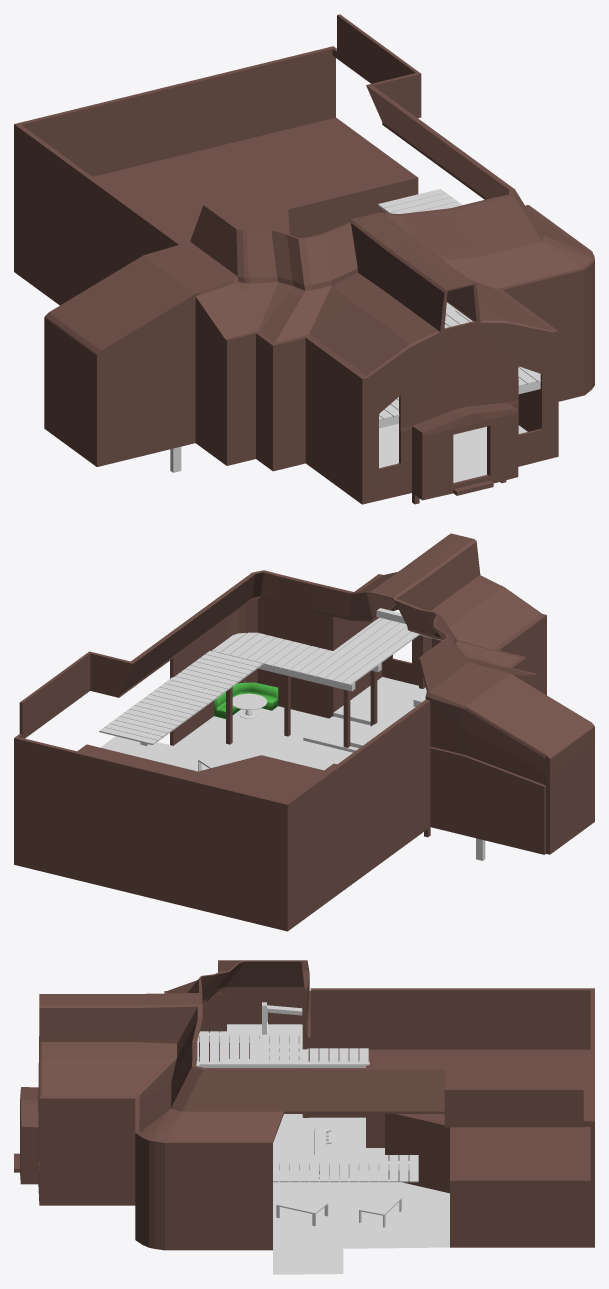
The model's file is Reaps Bar.fbx.
3 views of the same model, one above another, from view 1: azimuth 30°, elevation 25°; view 2: azimuth 150°, elevation 25°; view 3: azimuth 270°, elevation 25° (orthographic). The views are drawn at different scales.
Parts seen in each view (by area): view 1: Walls, Floor, Cube.017, Cube.005; view 2: Walls, Floor, Cube.017, Cube.005, Cube.003, Cube.016, Cylinder, Cube.015; view 3: Walls, Floor, Cube.017, Cube.002, Cube.020, Cube.015, Cube.014, Cube, Bar, Cube.018.
Boxes of the visible parts, box(x1,y1,x2,y2) form: Walls: box(14, 14, 594, 504); Floor: box(379, 302, 540, 482); Cube.017: box(378, 189, 462, 213); Cube.005: box(444, 310, 540, 386); Walls: box(14, 533, 594, 931); Floor: box(100, 608, 442, 771); Cube.017: box(99, 651, 262, 744); Cube.005: box(298, 617, 419, 685); Cube.003: box(229, 633, 327, 672); Cube.016: box(214, 682, 278, 718); Cylinder: box(232, 693, 267, 718); Cube.015: box(198, 750, 247, 771); Walls: box(14, 960, 594, 1250); Floor: box(199, 1032, 449, 1274); Cube.017: box(273, 1155, 418, 1182); Cube.002: box(200, 1031, 308, 1065); Cube.020: box(309, 1048, 368, 1065); Cube.015: box(276, 1194, 328, 1225); Cube.014: box(359, 1193, 401, 1227); Cube: box(227, 1024, 302, 1042); Bar: box(314, 1125, 349, 1179); Cube.018: box(262, 1002, 302, 1034).
Bounding box in the file's own units: 6829 × 3054 × 7709.
